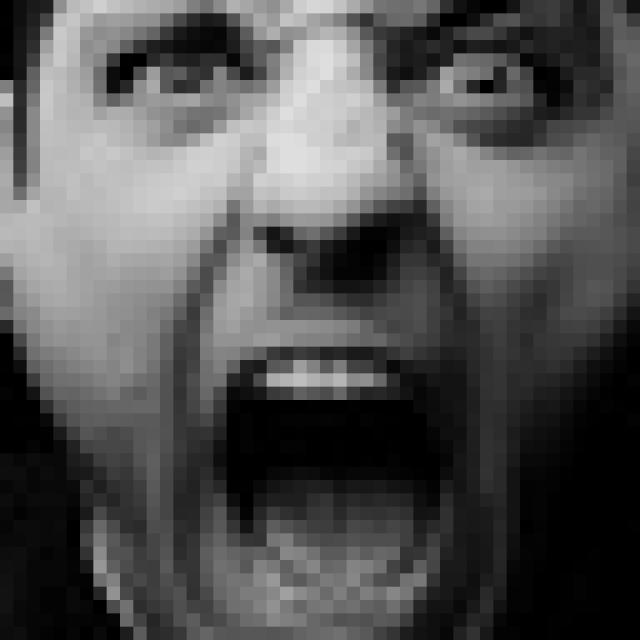angry: (91, 0, 593, 640)
